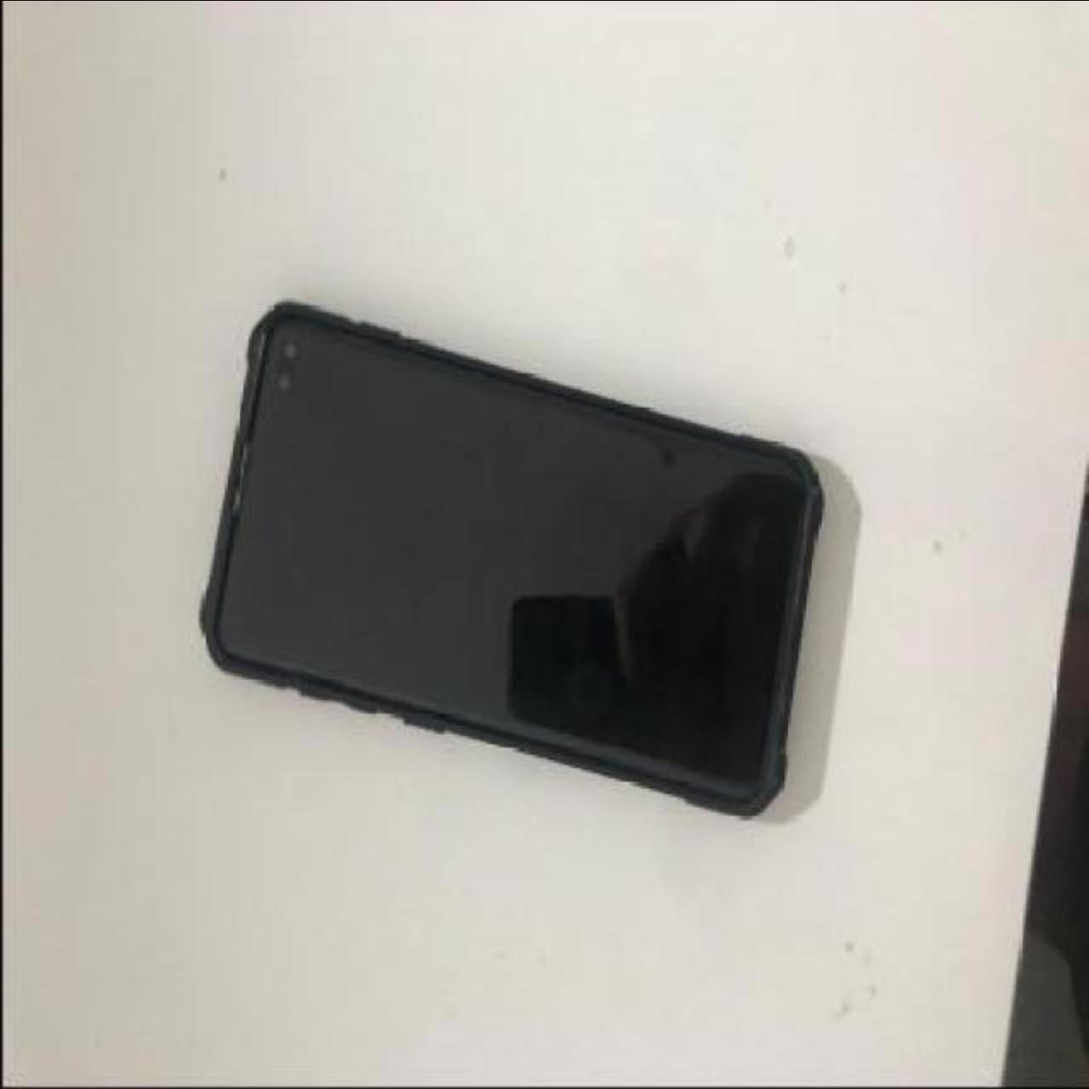phone: (188, 301, 824, 812)
